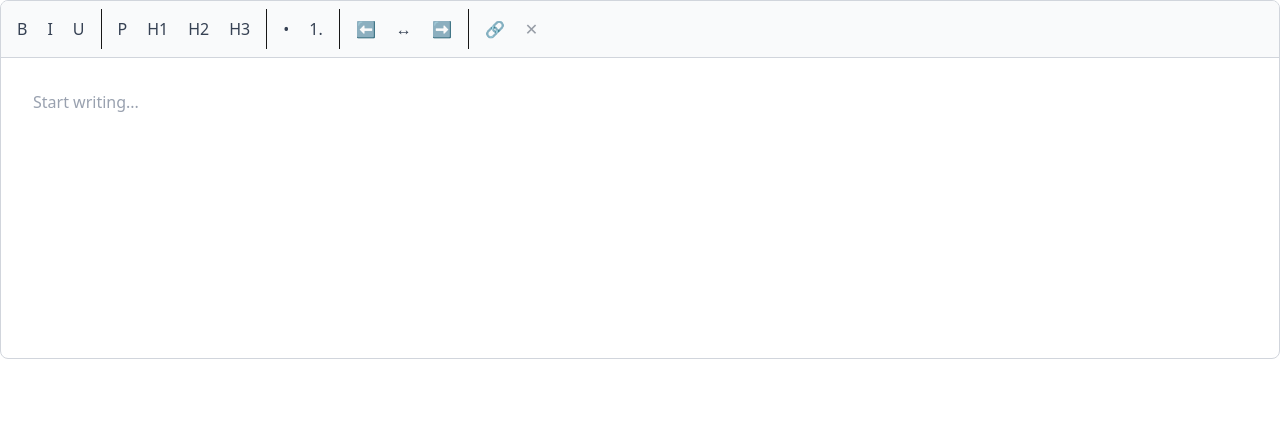
Test: TiptapEditor › User Interactions › link button opens link dialog when clicked
Note: Click to open dialog
Click the button named "add link".
click(495, 29)  # box [477,9,513,49]
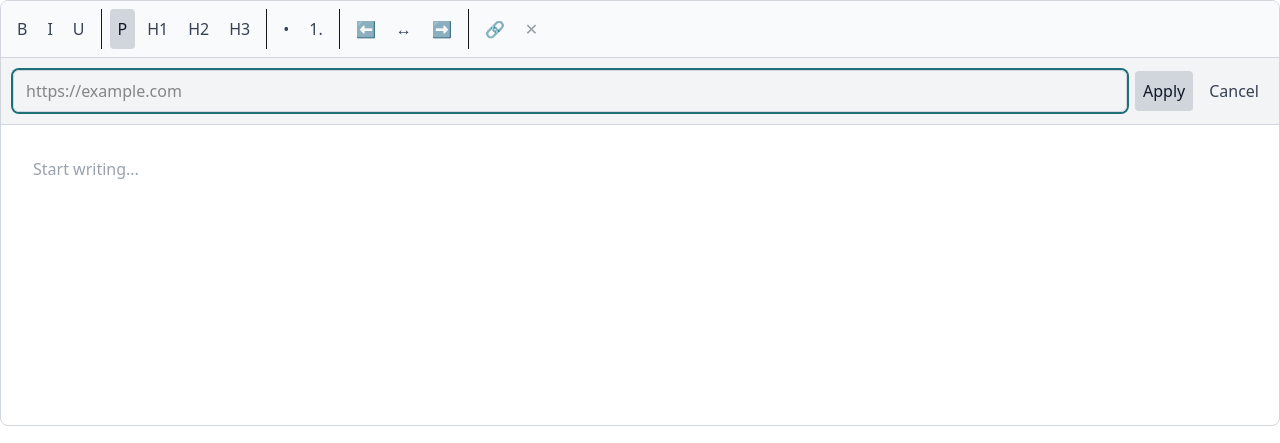
Now the field with placeholder "https://example.com" is shown, box [13,70,1127,112]
Now the button "Apply" is shown, box [1135,71,1193,111]
Now the button "Cancel" is shown, box [1201,71,1267,111]
